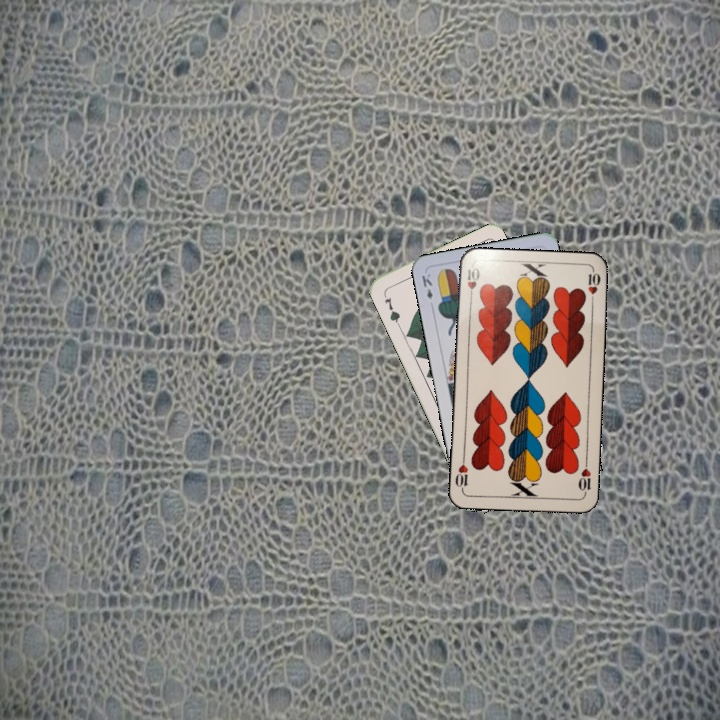EK: (418, 269, 435, 301)
G7: (379, 288, 403, 327)
H10: (574, 456, 593, 497), (463, 263, 482, 303)
